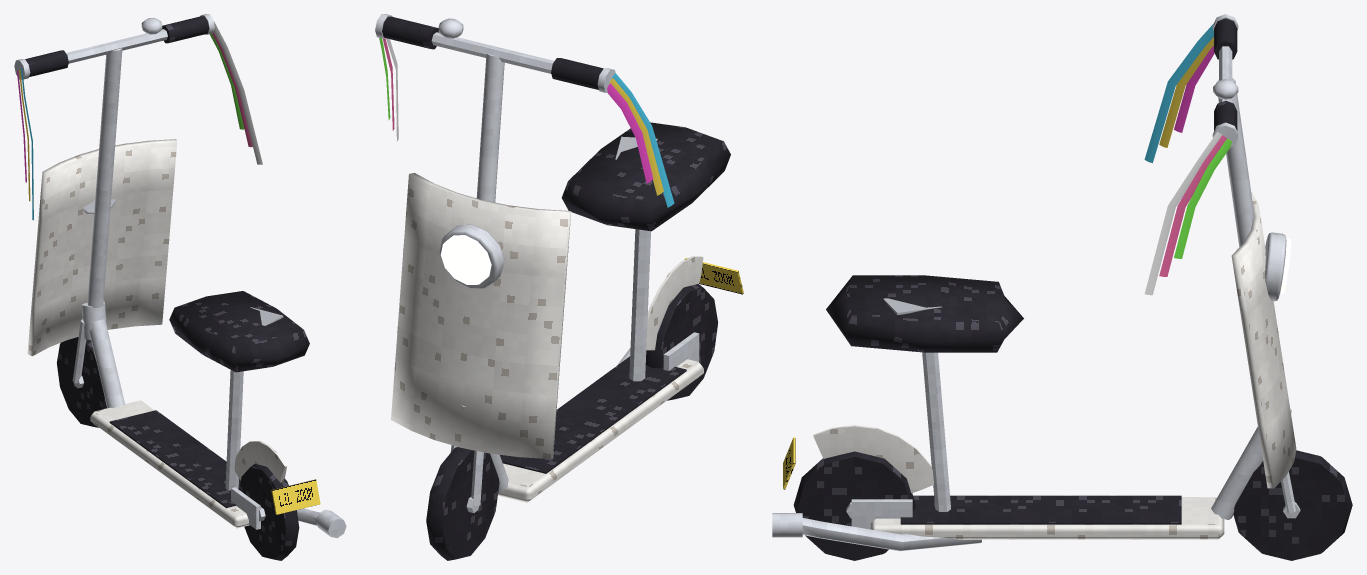
The model's file is s_scooter.glb.
3 renders of one model, left to right at view 1: azimuth 30°, elevation 25°; view 2: azimuth 150°, elevation 25°; view 3: azimuth 270°, elevation 25°, orthographic. The views are drawn at different scales.
Visible parts, largest first — view 1: s_scooter_mesh; view 2: s_scooter_mesh; view 3: s_scooter_mesh.
Part boxes in pixels (bbox=[...]): s_scooter_mesh: bbox=[14, 14, 346, 560]; s_scooter_mesh: bbox=[375, 14, 743, 560]; s_scooter_mesh: bbox=[772, 14, 1352, 560].
Size of the model in its own units: 0.5211 by 0.9054 by 0.95.
Materials: 5 (4 with a texture image).
